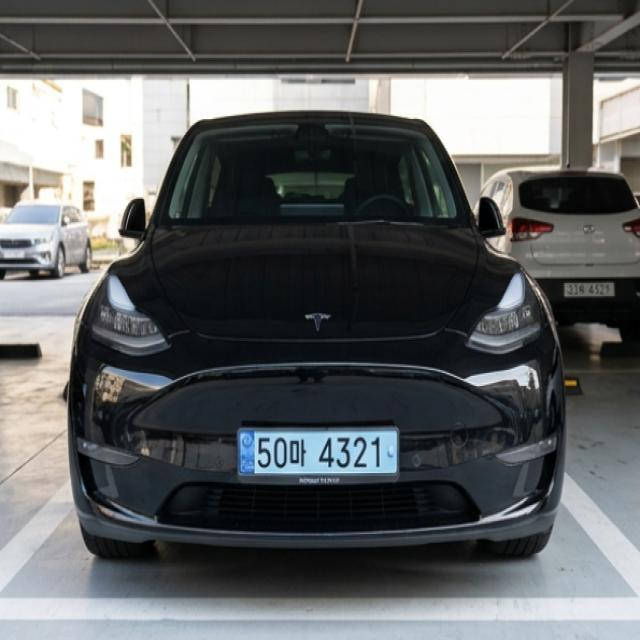car: (227, 417, 411, 488)
carev: (382, 426, 404, 476), (237, 423, 256, 477)
